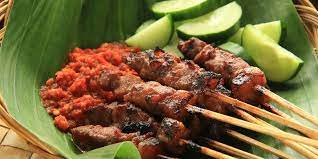sate: (41, 24, 276, 159)
